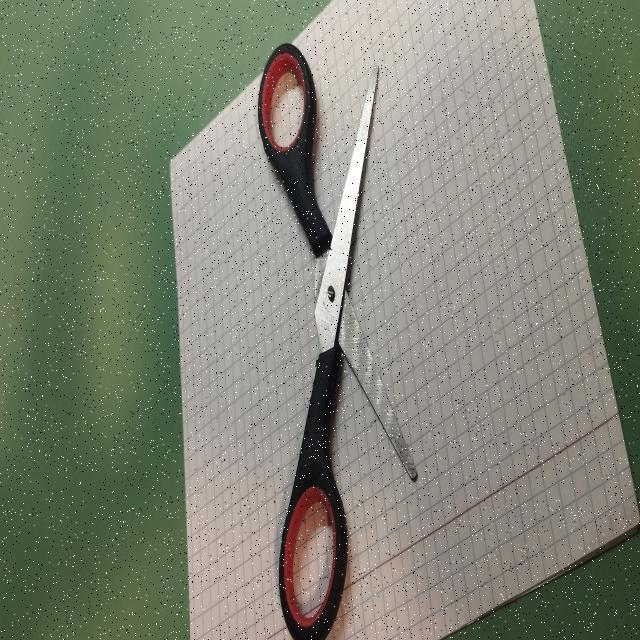scissors: (252, 30, 420, 640)
